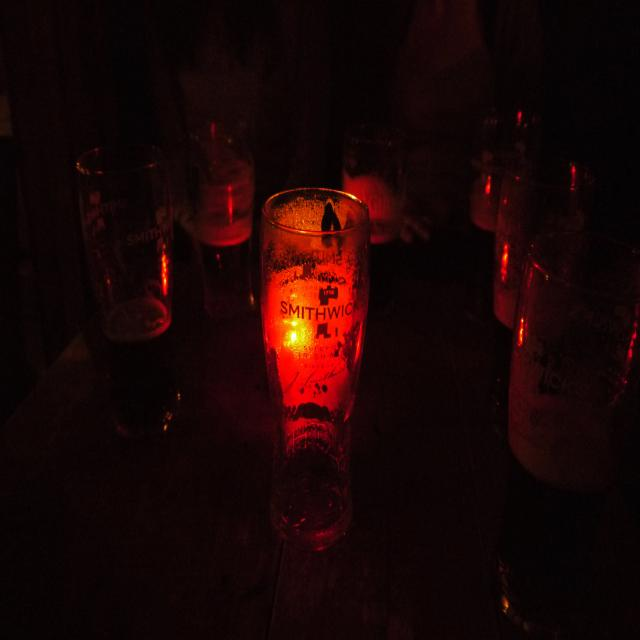Cup: (256, 177, 383, 524), (514, 223, 640, 522), (71, 91, 186, 387), (488, 84, 622, 288), (185, 92, 246, 307), (335, 86, 416, 244), (615, 487, 634, 488)
